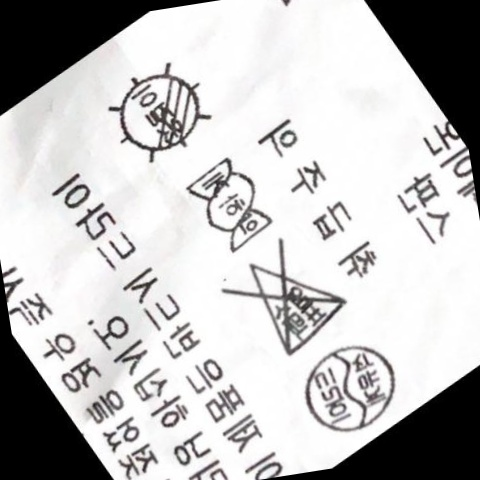dry_clean_petrol_only: (290, 338, 403, 438)
line_dry_in_shade: (104, 62, 217, 168)
non_chlorine_bleach: (231, 239, 347, 361)
wring: (178, 157, 275, 257)
